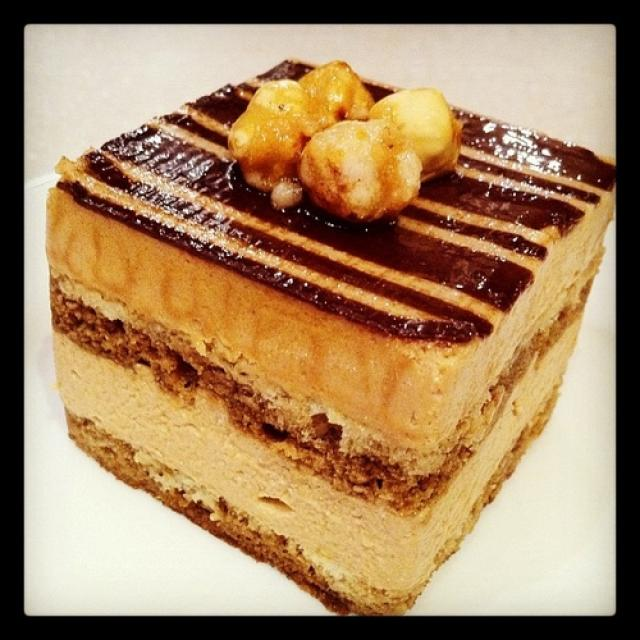蛋糕甜品: (36, 44, 619, 616)
